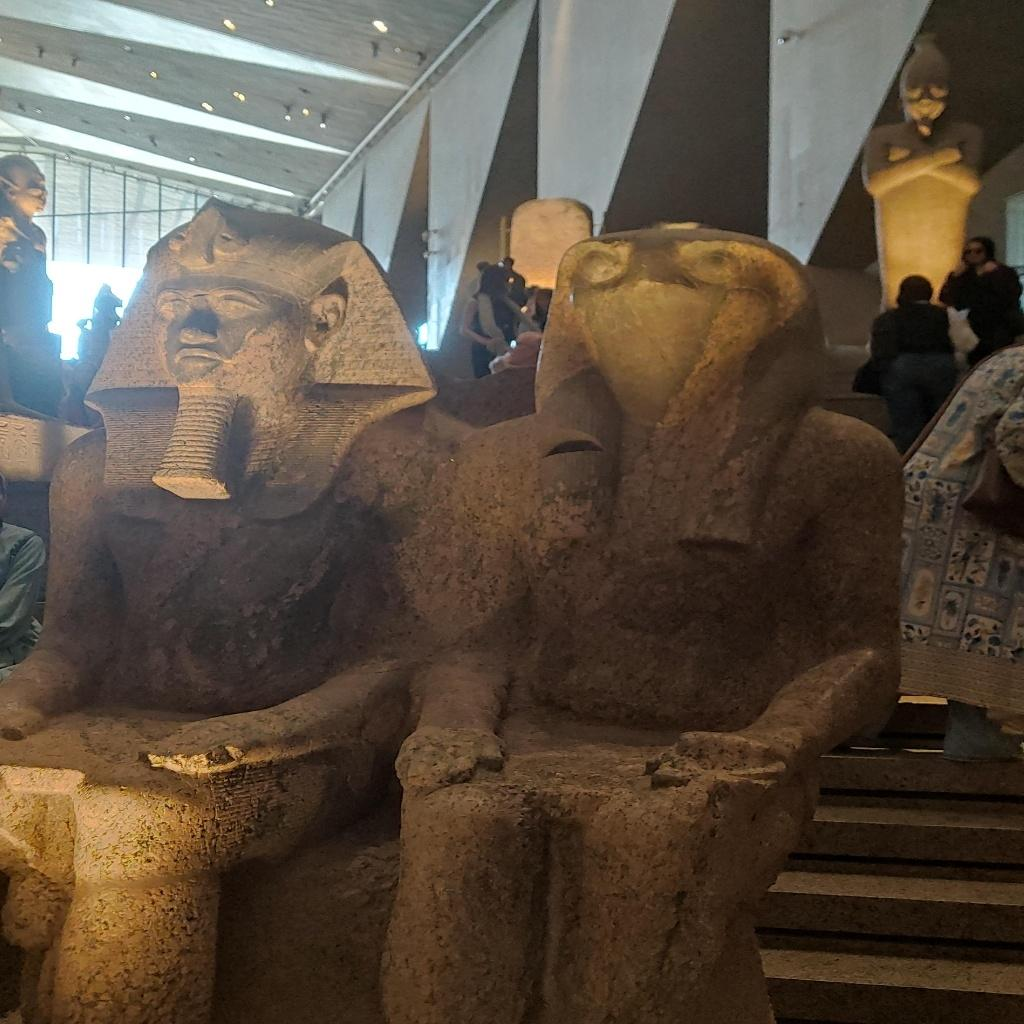Statue of Amenhotep III and God Re-Horakhty: (50, 192, 902, 791)
